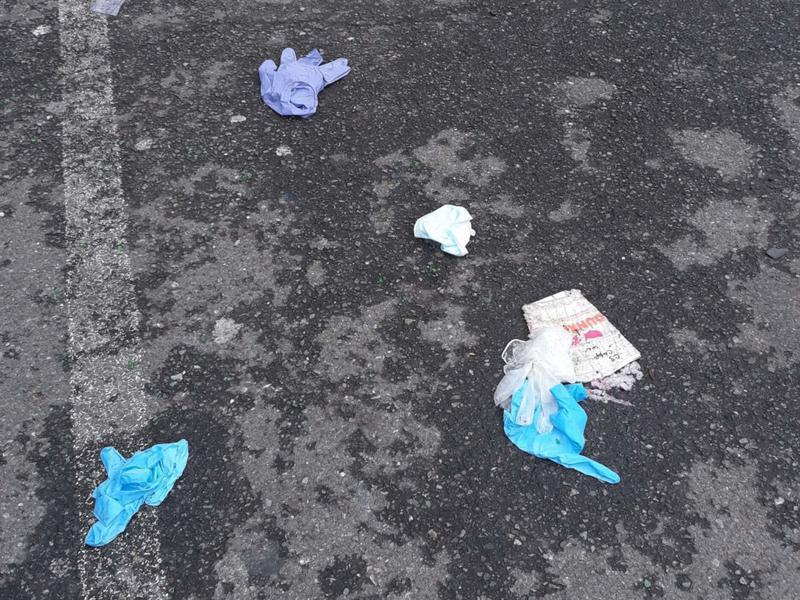gloves: (503, 382, 631, 485), (72, 440, 193, 547), (486, 326, 579, 435), (254, 44, 354, 122), (410, 200, 483, 260)
